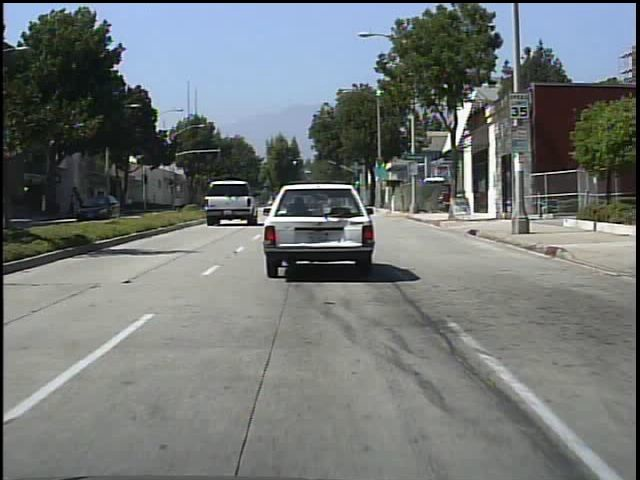person: (70, 197, 80, 219), (128, 194, 136, 214)
